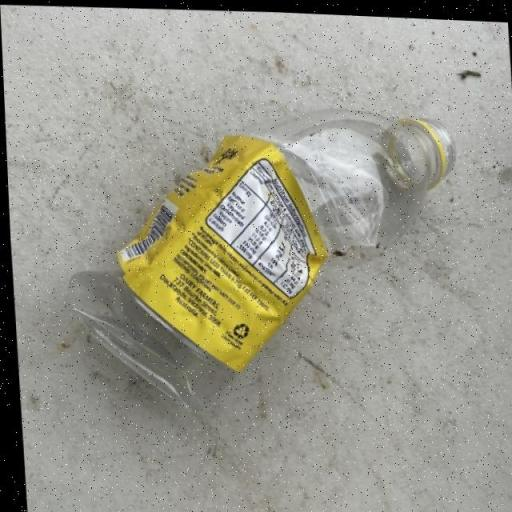plastic: (53, 91, 469, 422)
